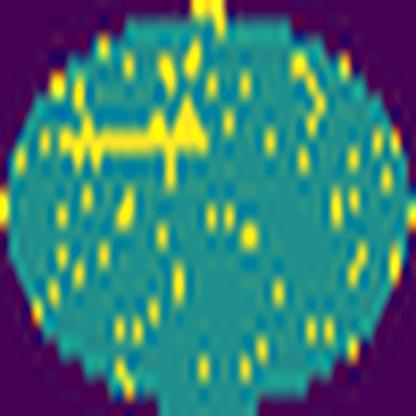Scratch: (57, 72, 214, 192)
